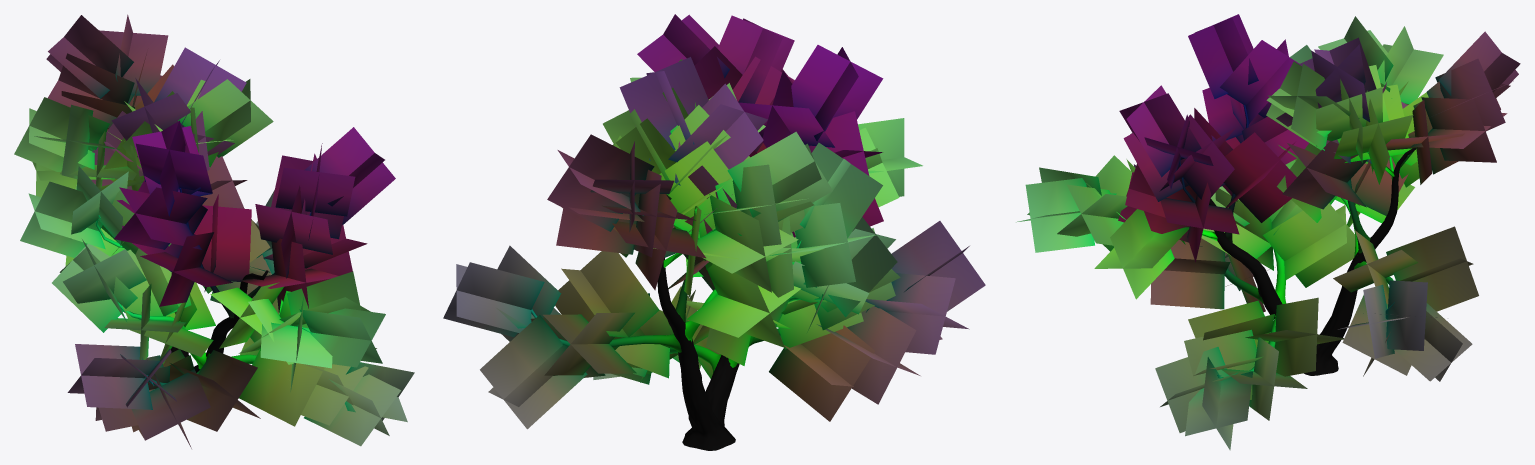
File: URP_P11_Tree_8_LOD_0.fbx
3 renders of one model, left to right at view 1: azimuth 30°, elevation 25°; view 2: azimuth 150°, elevation 25°; view 3: azimuth 270°, elevation 25°, orthographic. The views are drawn at different scales.
Visible parts, largest first — view 1: Tree_8_LOD_0; view 2: Tree_8_LOD_0; view 3: Tree_8_LOD_0.
Part boxes in pixels (x1=…): Tree_8_LOD_0: x1=14, y1=14, x2=414, y2=448; Tree_8_LOD_0: x1=443, y1=14, x2=985, y2=450; Tree_8_LOD_0: x1=1016, y1=14, x2=1520, y2=450.
Bounding box in the file's own units: 586 × 568 × 755.
